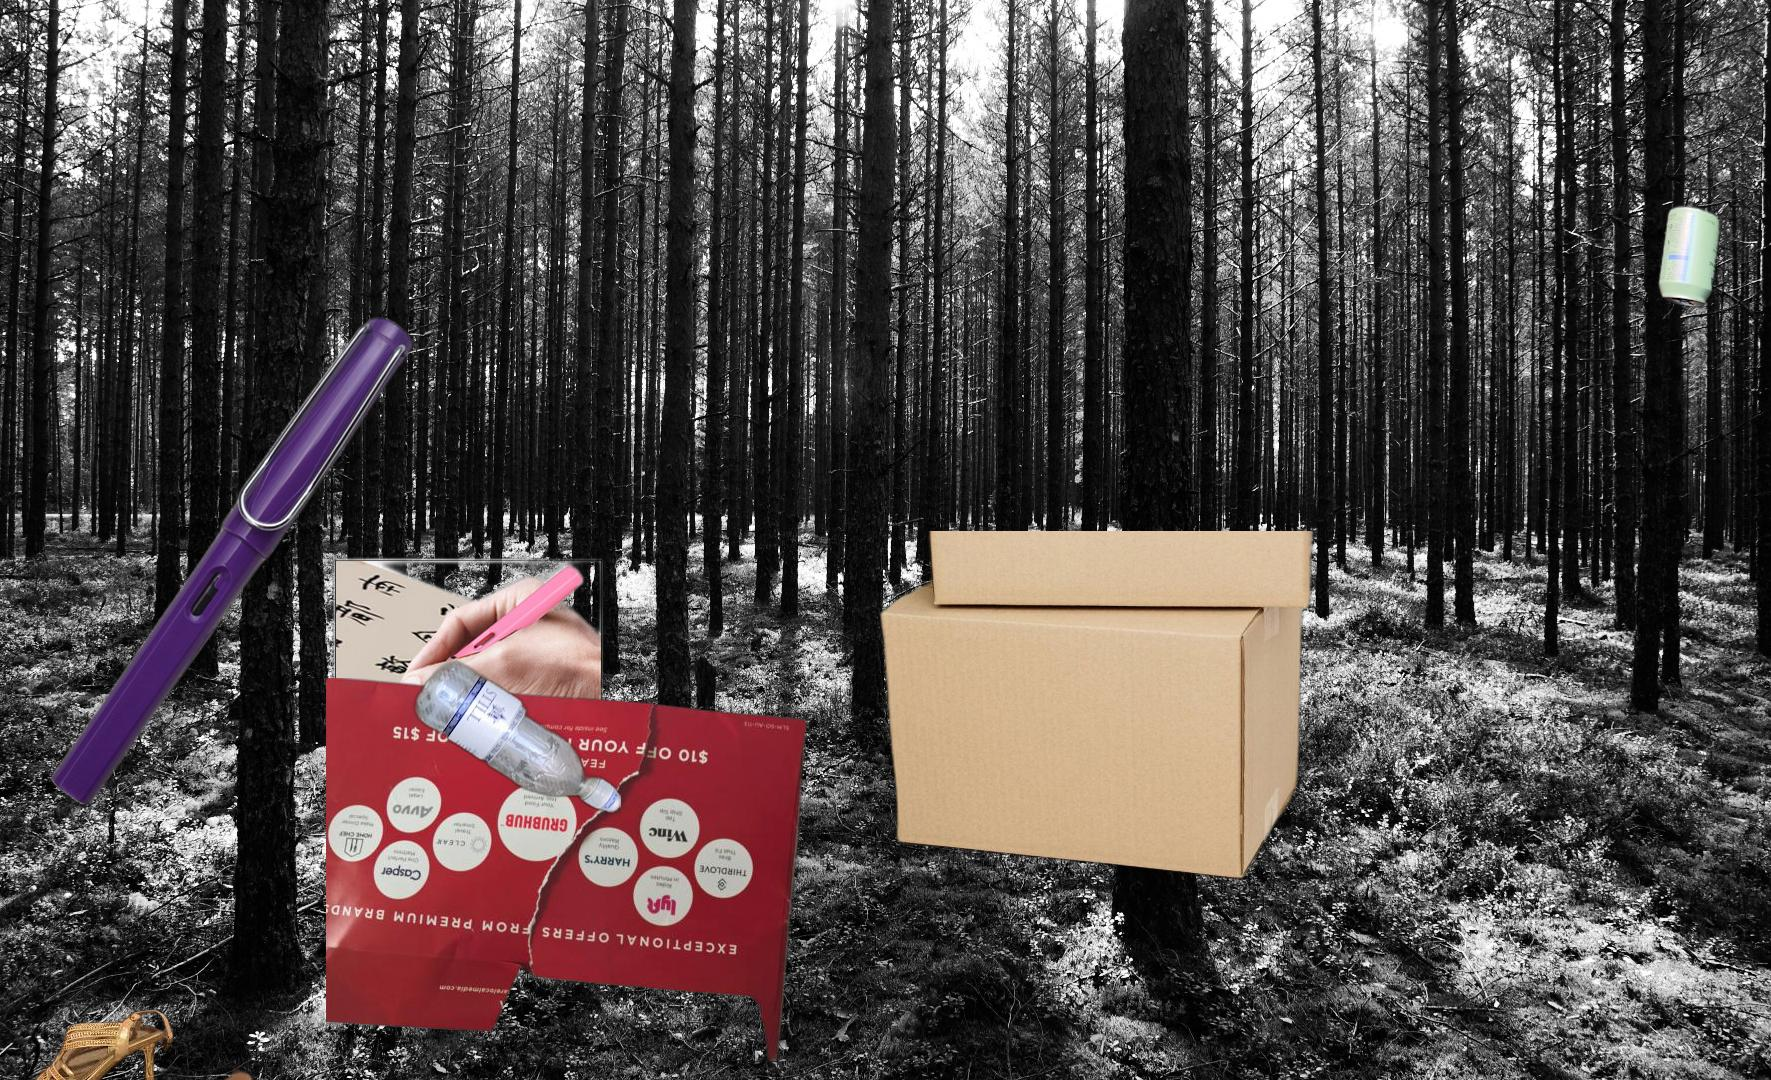metal-cans: (1653, 199, 1724, 314)
paper: (326, 678, 813, 1062)
penholder: (44, 312, 610, 812)
plastic-bottles: (411, 655, 621, 847)
shoes: (8, 1007, 258, 1080)
trashbox-cardboard: (874, 531, 1319, 881)
